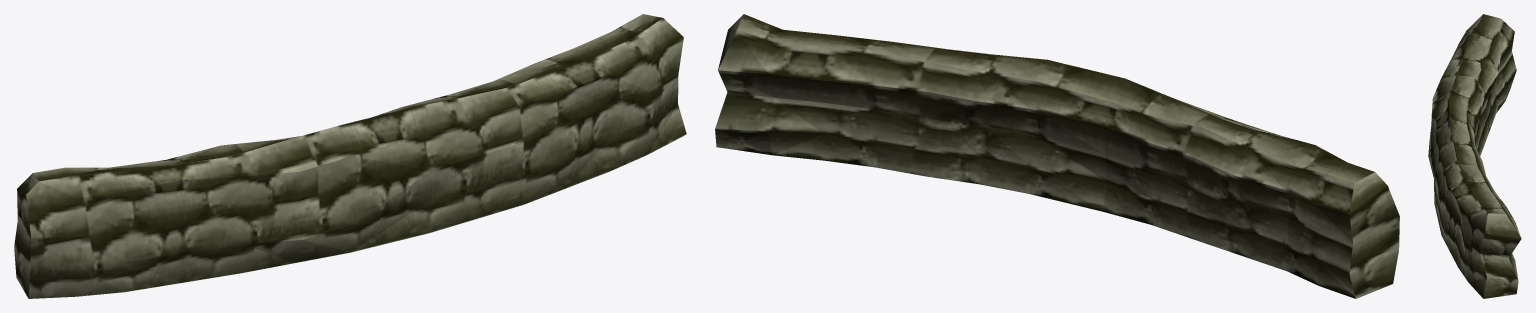
File: SandbagWall01.obj
The picture shows the model from 3 angles, left to right: view 1: azimuth 30°, elevation 25°; view 2: azimuth 150°, elevation 25°; view 3: azimuth 270°, elevation 25°; orthographic projection. The views are drawn at different scales.
Visible parts, largest first — view 1: SandbagWall01; view 2: SandbagWall01; view 3: SandbagWall01.
Boxes of the visible parts, x1=… form: SandbagWall01: x1=14, y1=14, x2=686, y2=298; SandbagWall01: x1=715, y1=14, x2=1399, y2=298; SandbagWall01: x1=1428, y1=14, x2=1521, y2=298.
Size of the model in its own units: 9.98 by 1.71 by 1.82.
